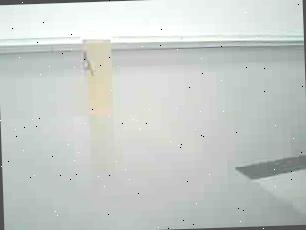Bottle A: (70, 20, 128, 132)
